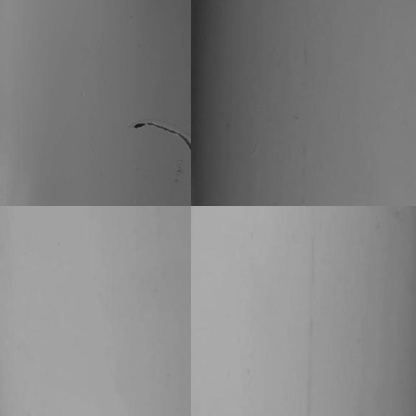fengxi: (134, 118, 194, 154)
